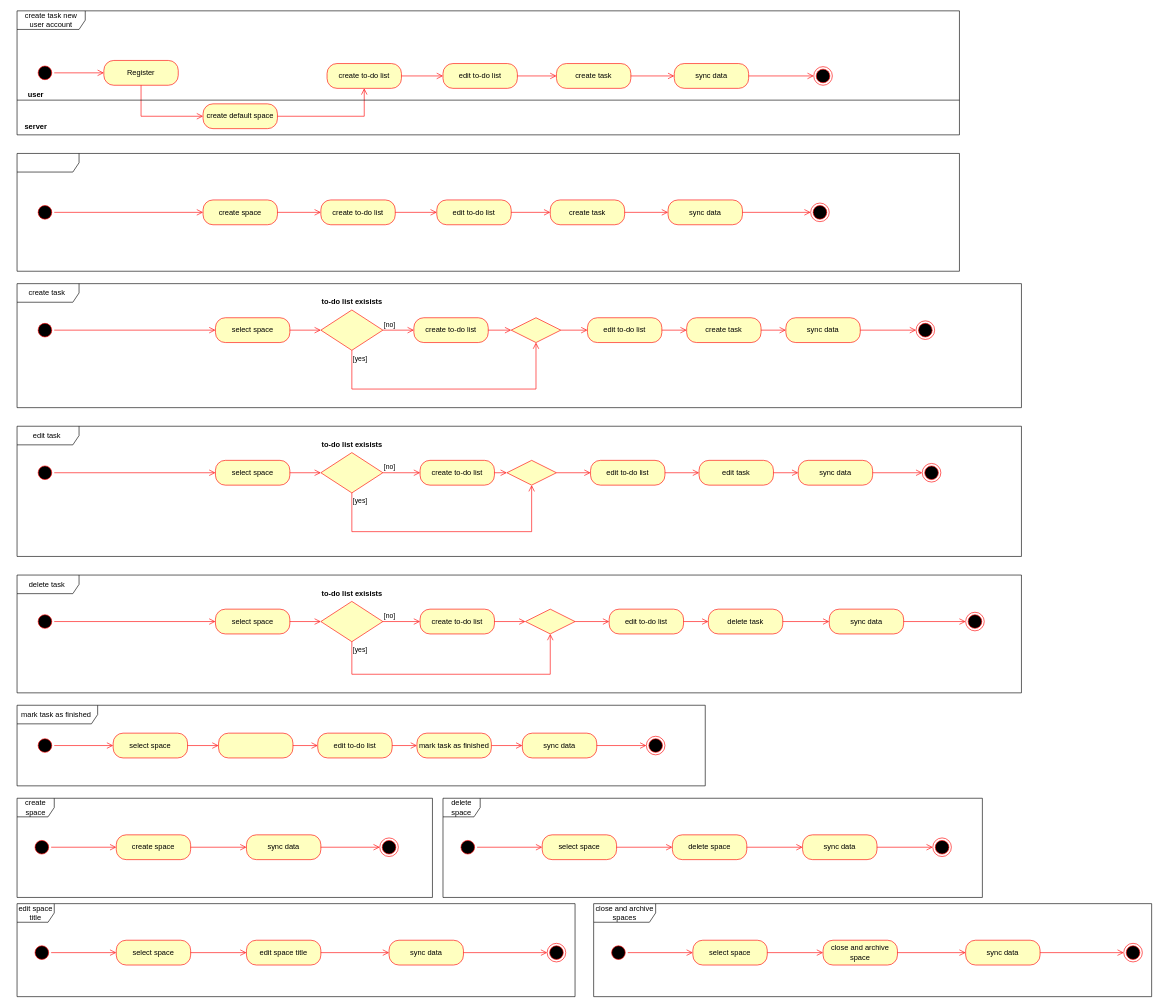
The diagram is 1163 pixels wide and 1008 high, and some of its shapes have lost their labels. The shapes that lost their labels are listed below. From the top down, each one's centre as x and y in pixels, then its label:
pixel 487 212: create task from new space
pixel 255 745: select to-do list
